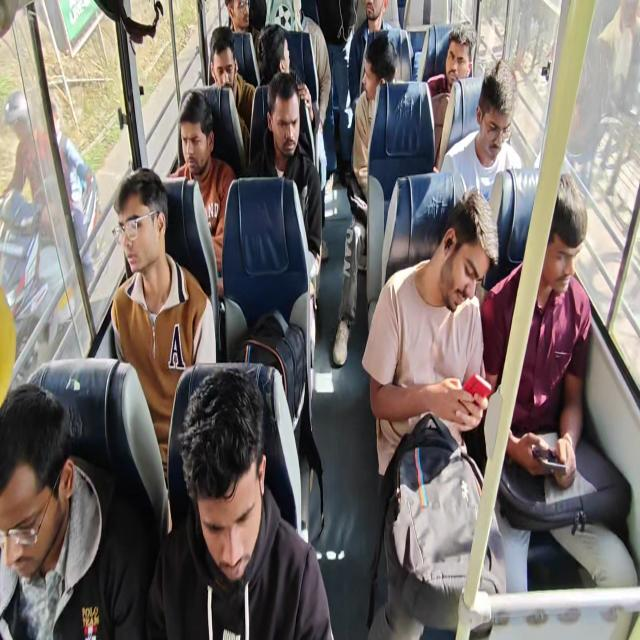person: (164, 400, 262, 640), (0, 395, 88, 589), (420, 189, 504, 365), (528, 164, 594, 304), (110, 186, 171, 320), (461, 74, 529, 180), (262, 84, 312, 182), (172, 90, 215, 186), (435, 32, 493, 86), (307, 0, 353, 68), (261, 33, 301, 102), (363, 40, 399, 113), (199, 31, 236, 92), (215, 0, 261, 33), (266, 0, 313, 32), (354, 0, 390, 32)
